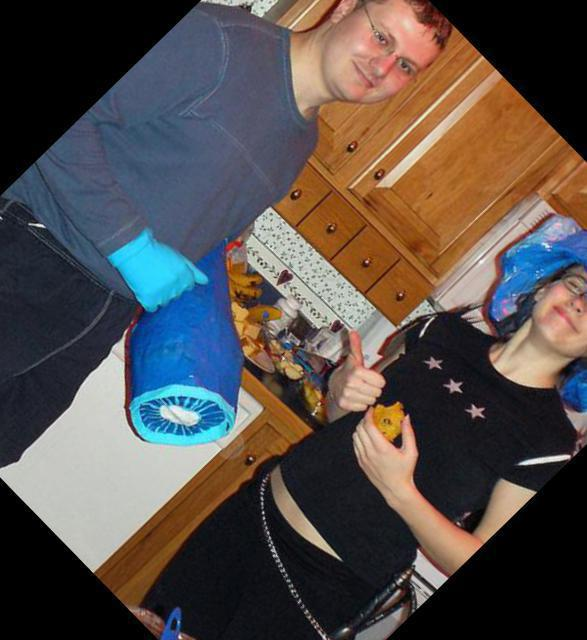Lavaplatos: (0, 23, 174, 245)
